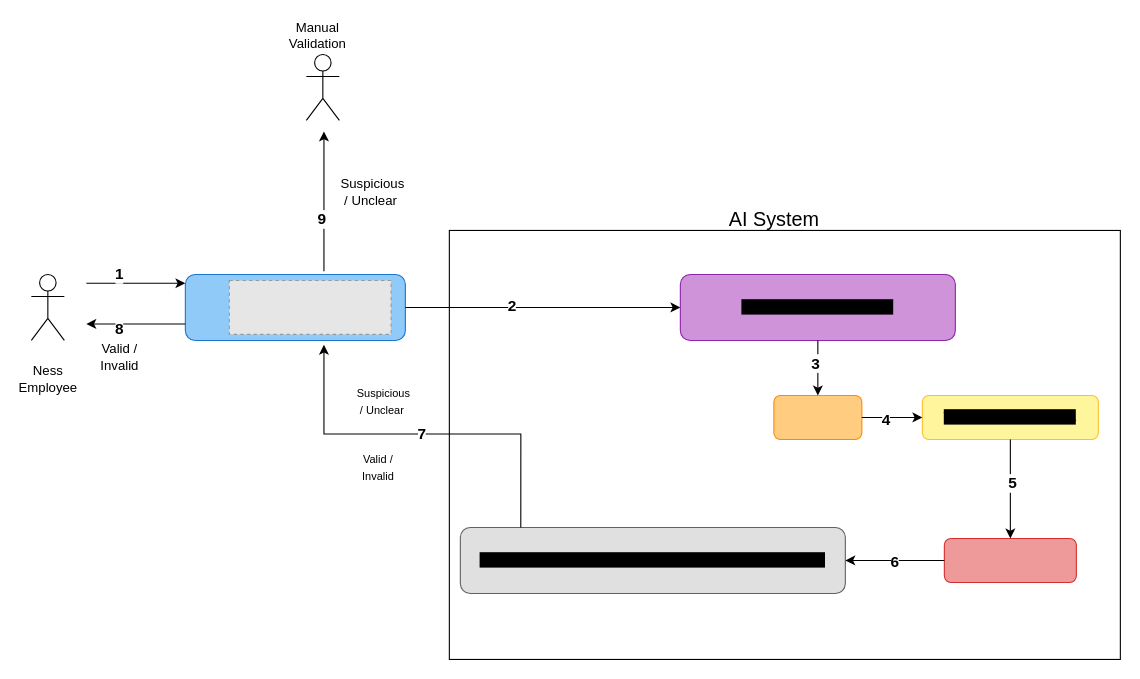
Image size: 1140x679. Some labels were removed from this diagram. Grey dashed boxes stand in for pictures. The centre of each missing label's shape, as x and y in pixels:
"Business Rules" goes at (x=1009, y=559).
"OCR" goes at (x=817, y=416).
